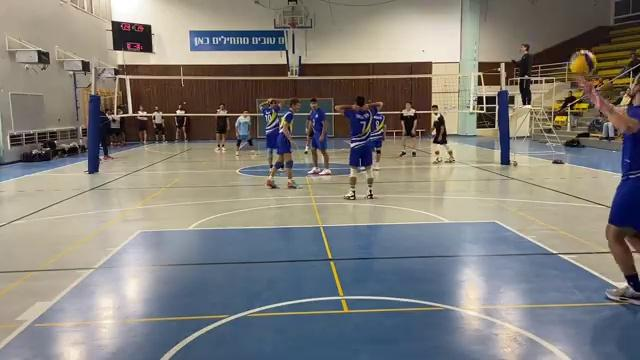ball: (568, 47, 604, 79)
